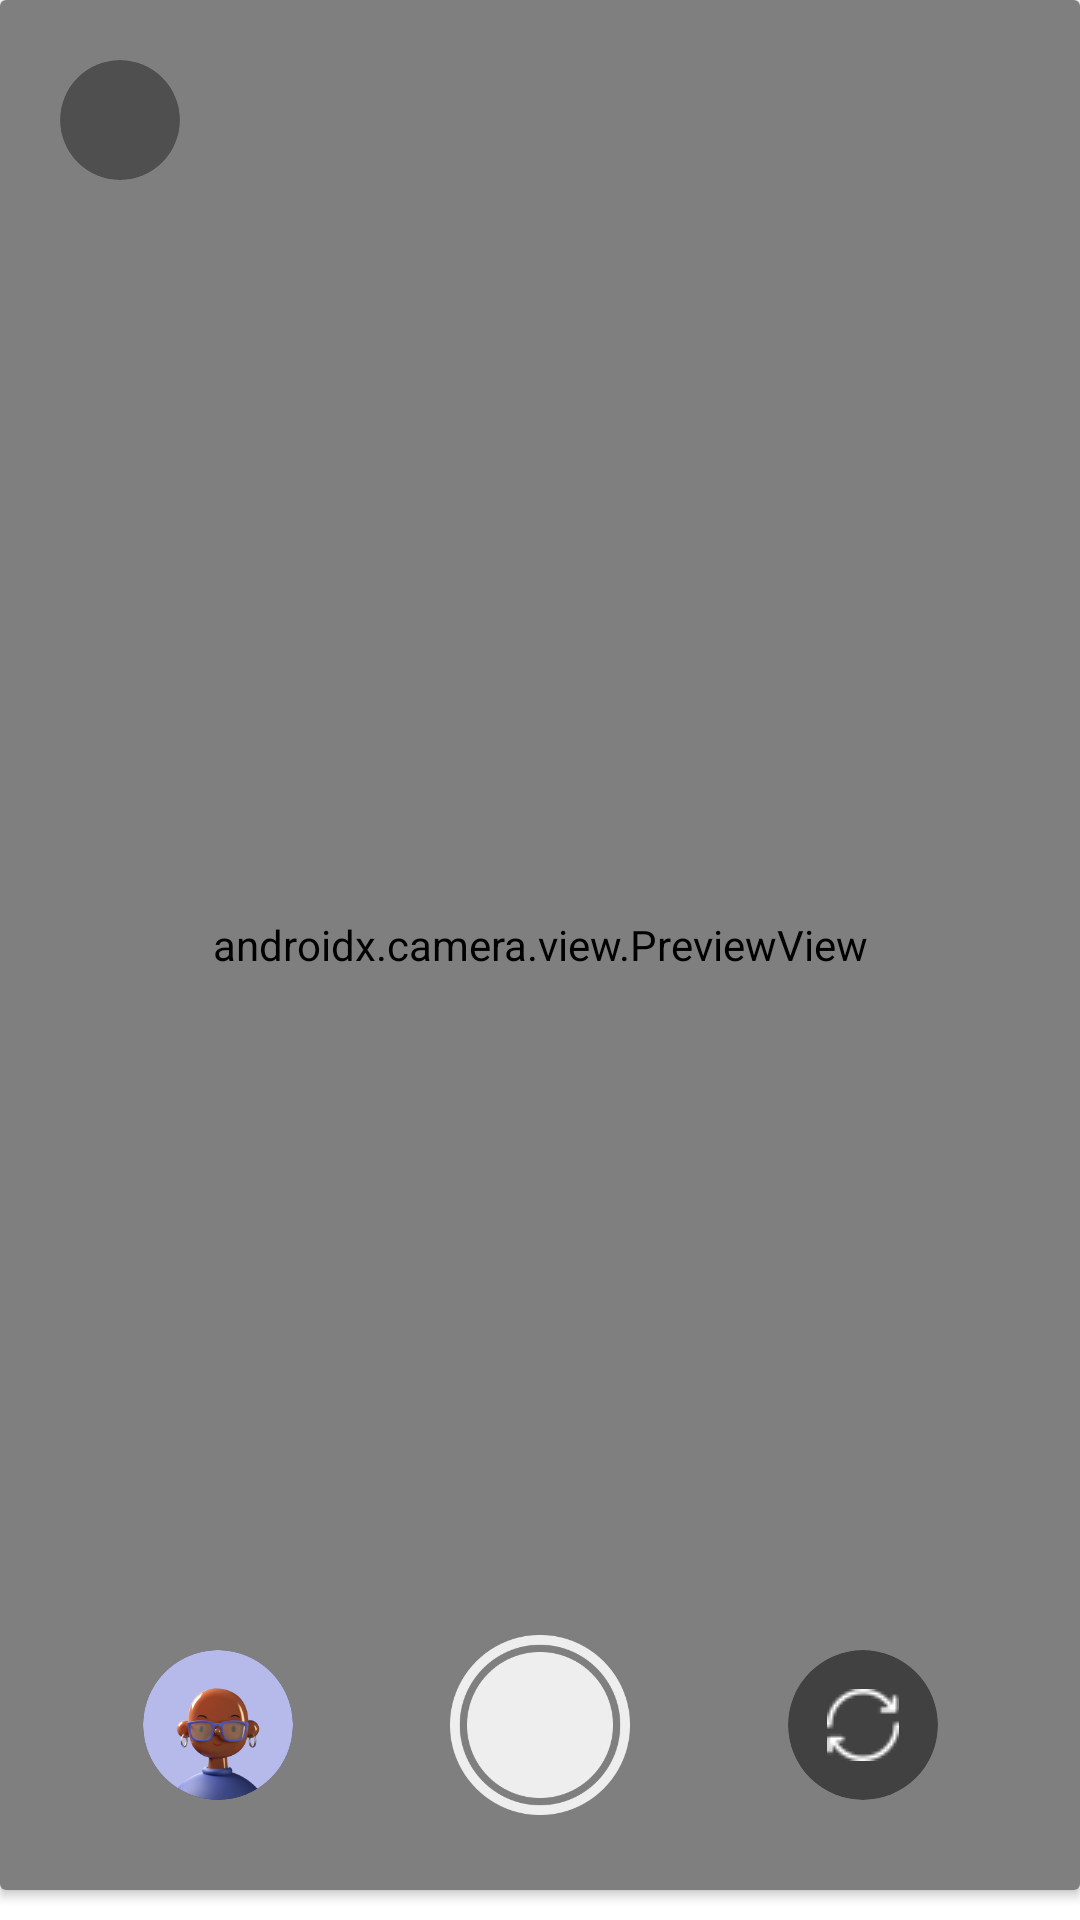

Locate icon controls on the screen. Image size 1080w x 1920h, boxes as [x1, y1, x2, y2].
camera click: [450, 1635, 630, 1815]
